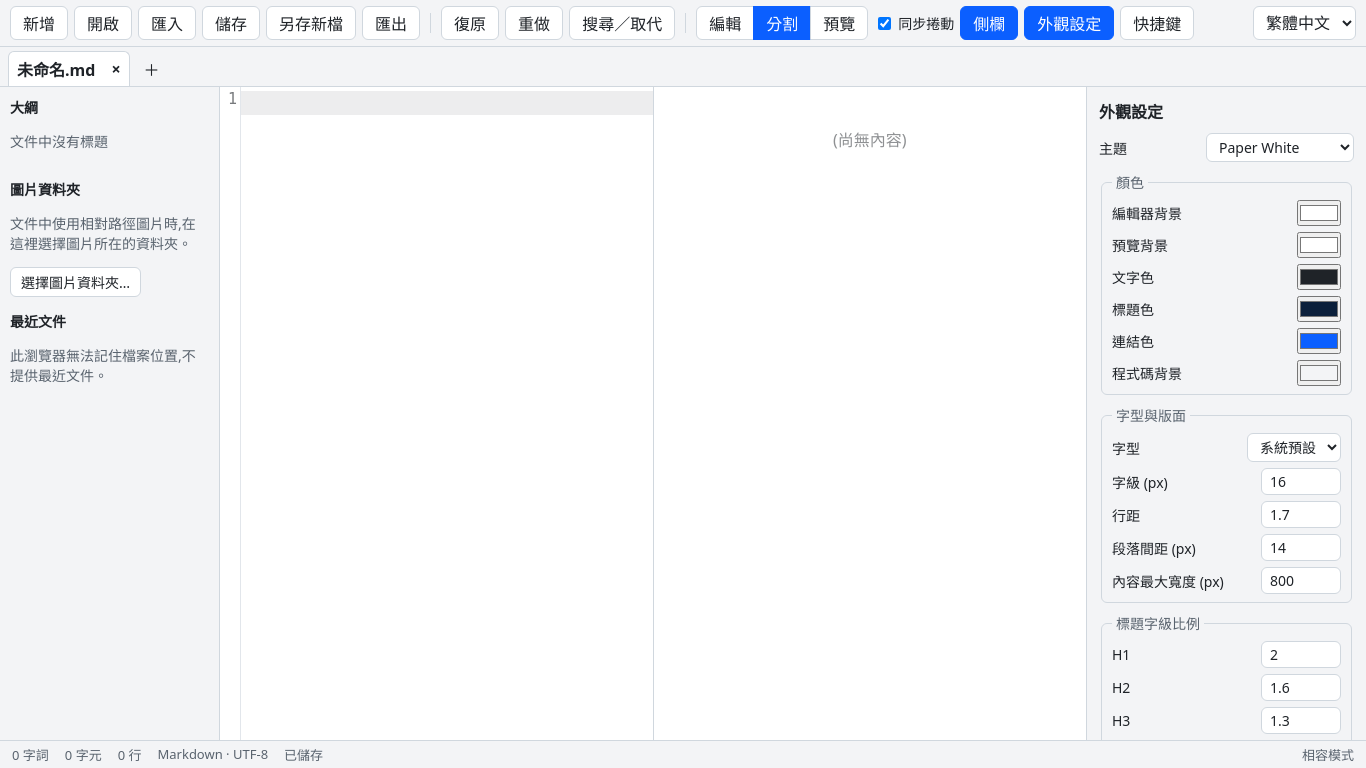
image folder › shows images found in the chosen folder and marks the ones that are missing
This screenshot has width=1366, height=768.
Click the button "開啟" at (103, 23), box [74,6,132,40]
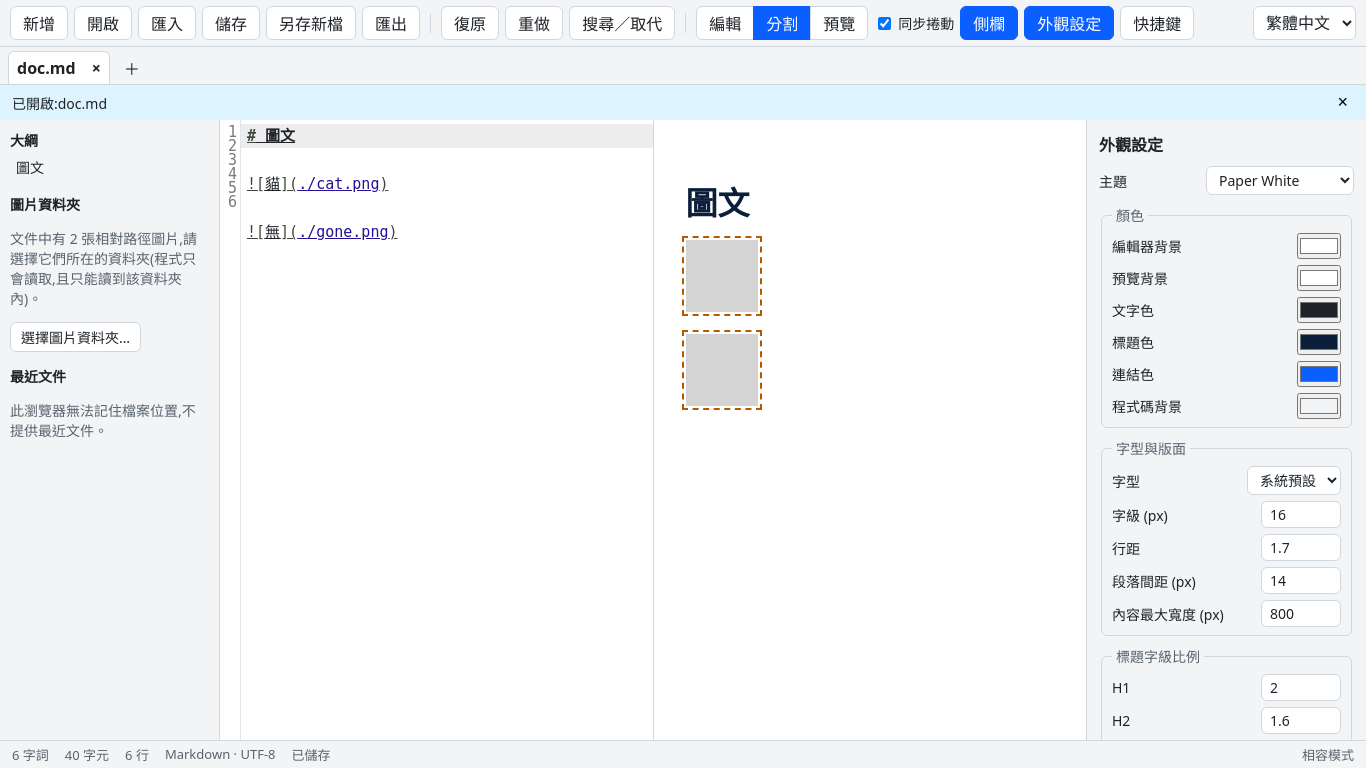
Click the button "選擇圖片資料夾…" at (76, 337), box [10,322,141,352]
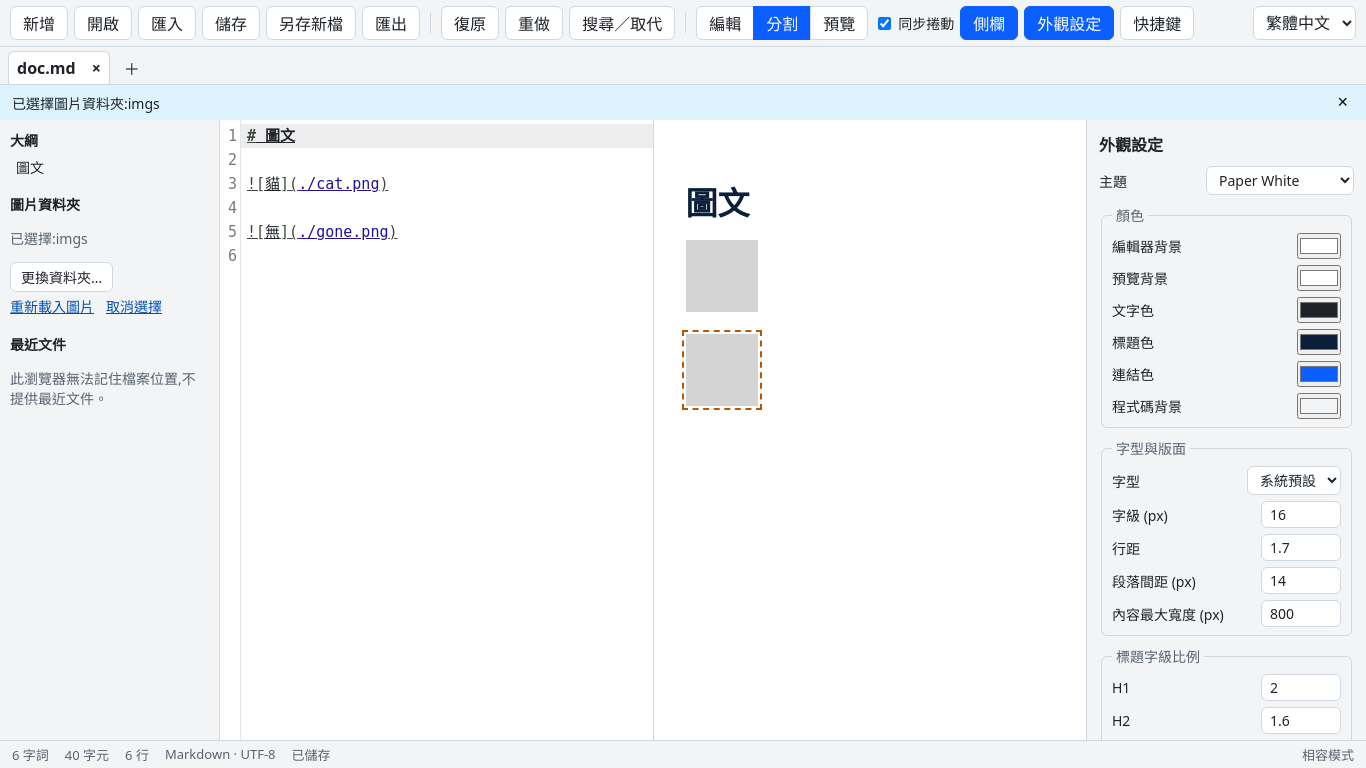
Now the text "已選擇:imgs" is shown, box [10,229,88,248]
Now the message shows "已選擇圖片資料夾:imgs", box [12,94,160,112]
